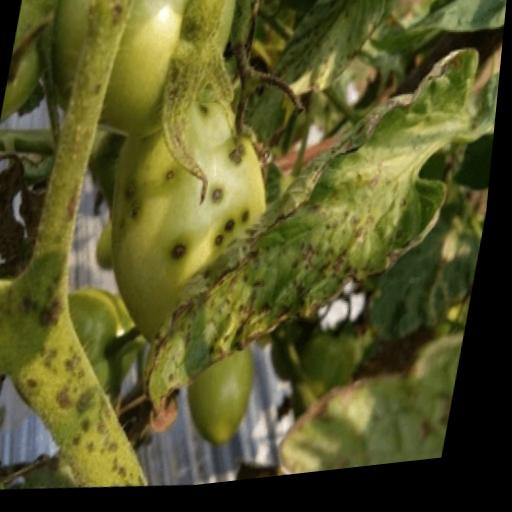Bacterial Spot: (138, 22, 493, 436)
